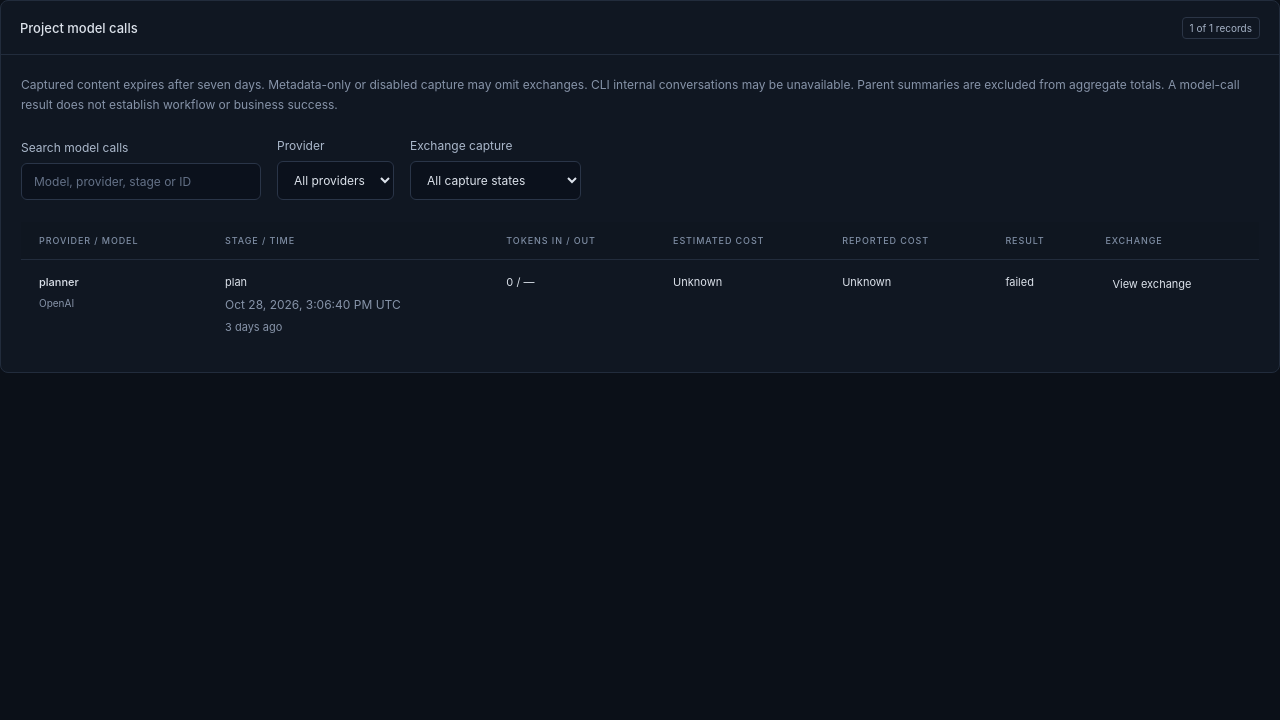
fences a pending exchange when the selected project changes
Click the button with aria-label "View exchange call-1". click: (1152, 284)
box: 1105,275 -> 1198,293
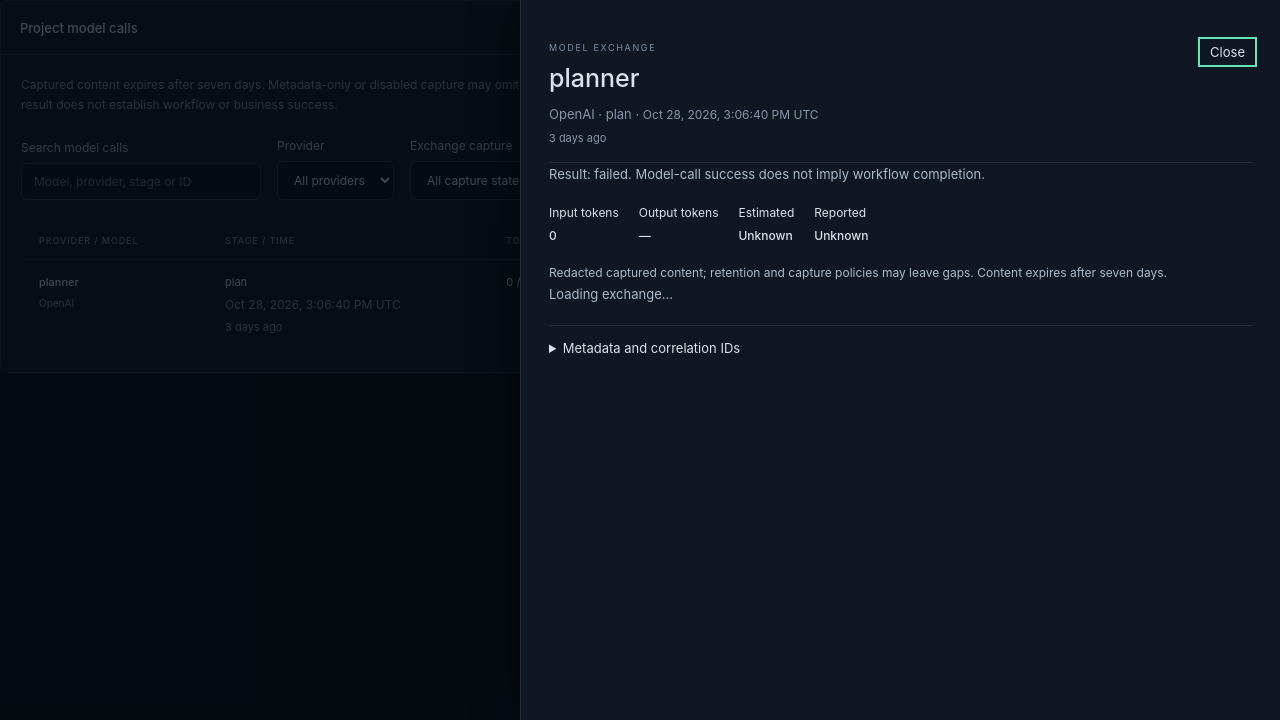
Check: the text "Loading exchange…" is shown, box 549,286 -> 673,302
